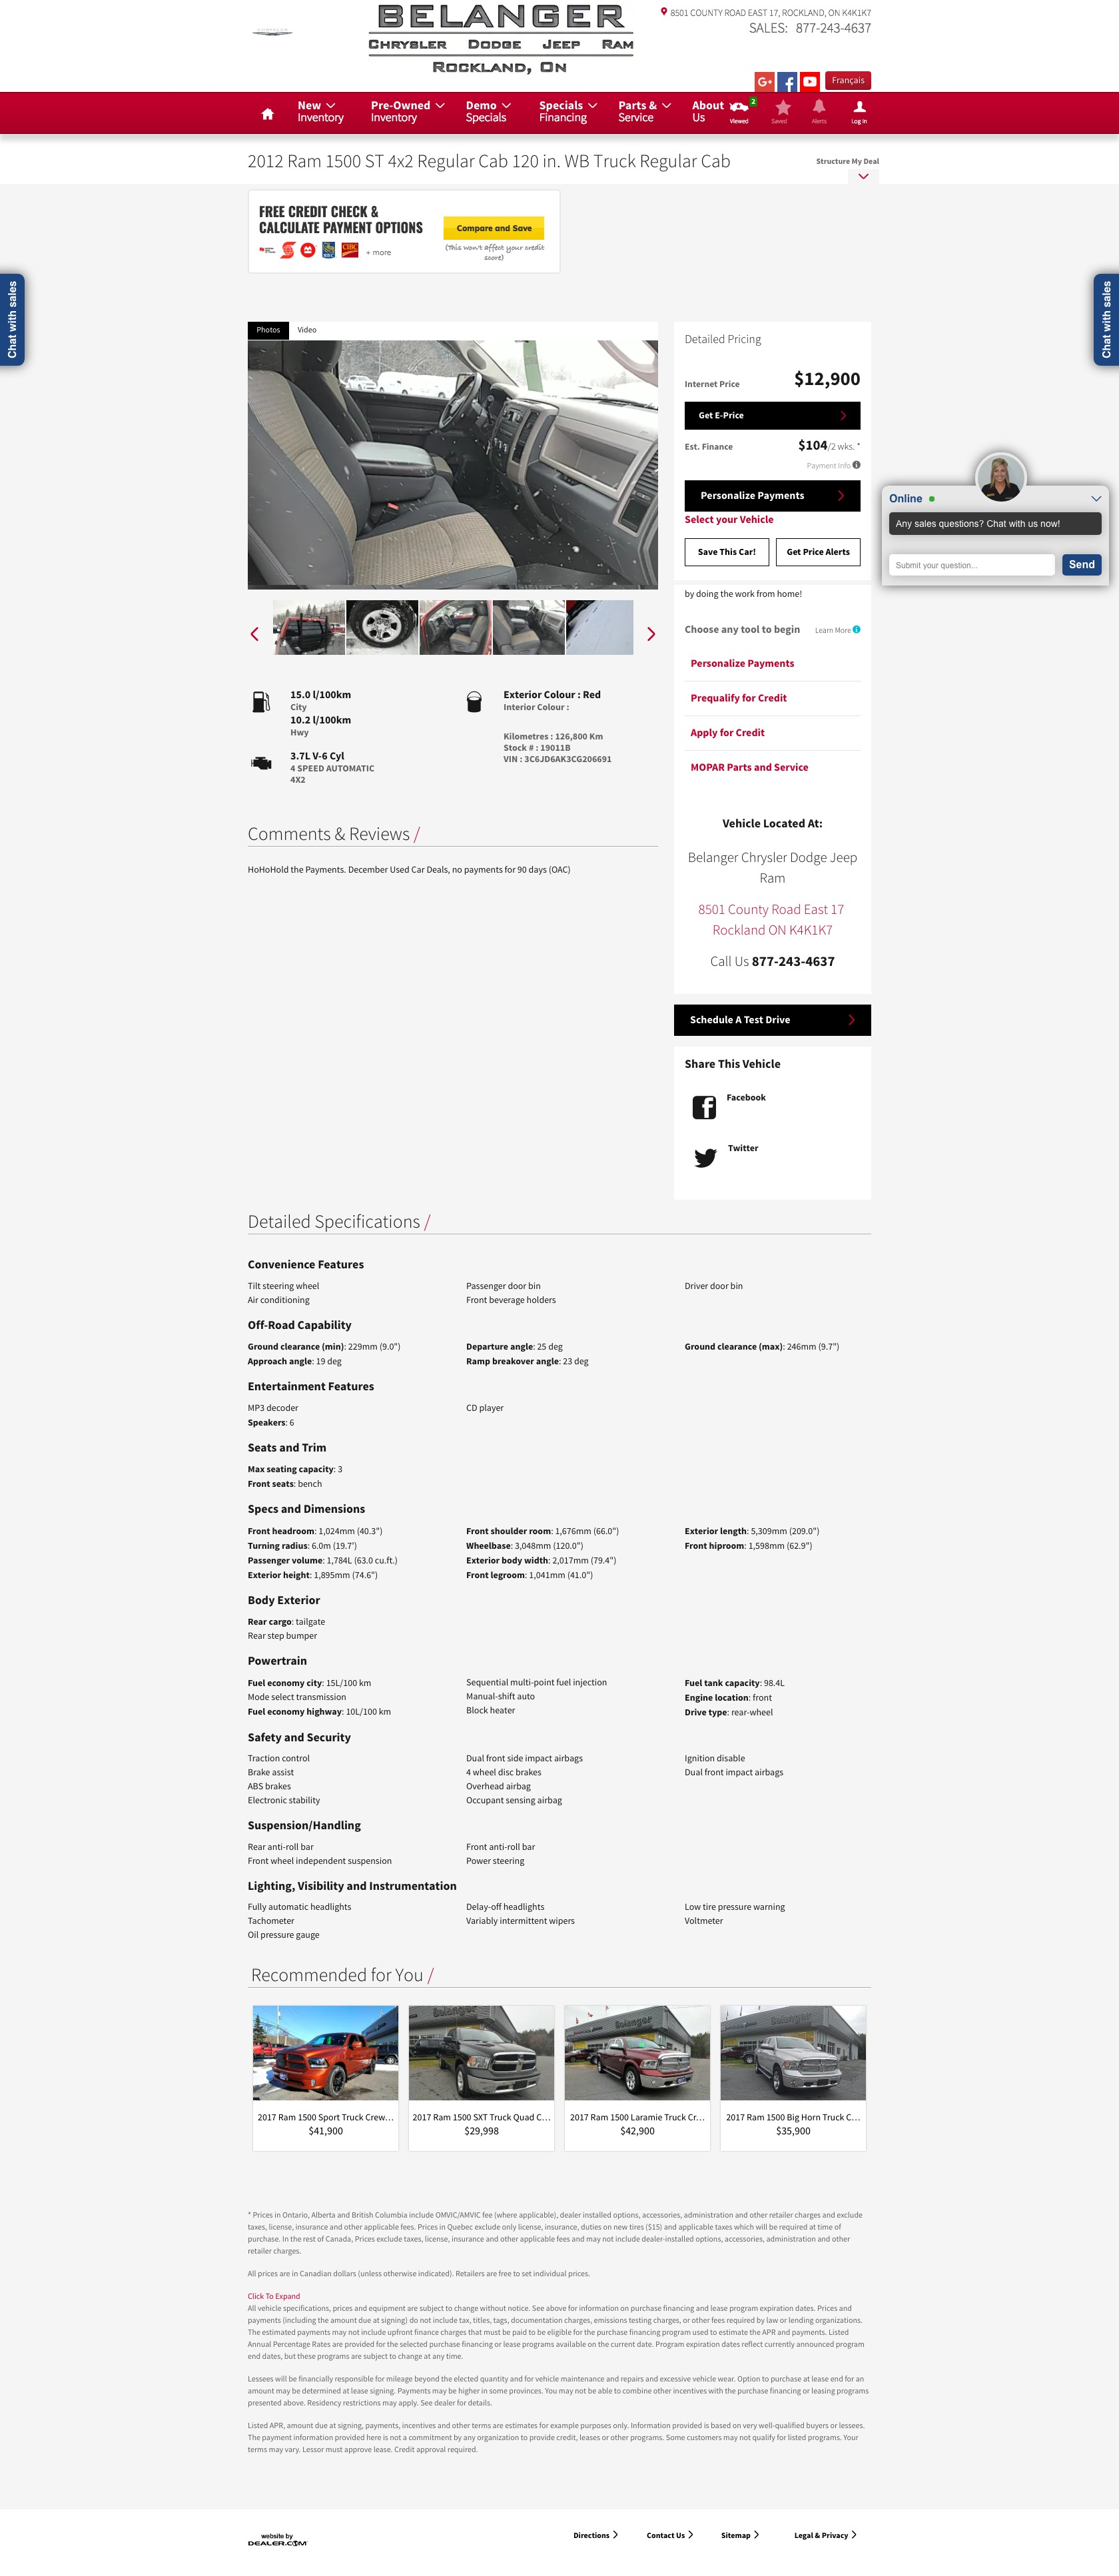car: (647, 628, 656, 642)
